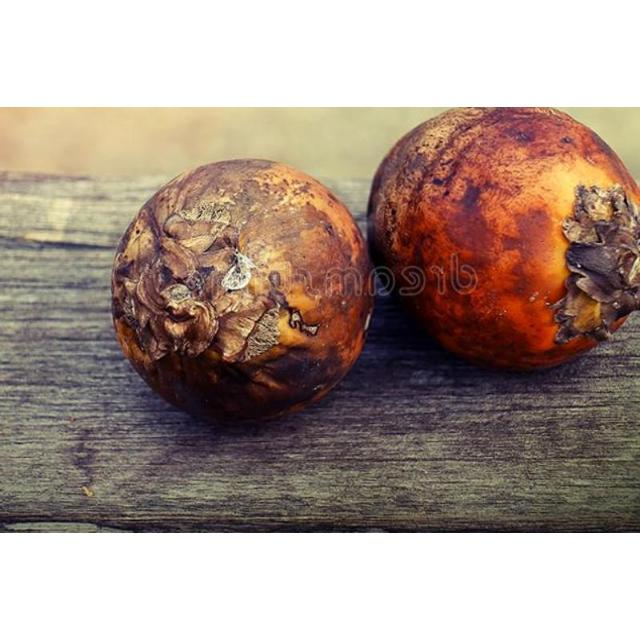damaged: (367, 107, 639, 374), (110, 159, 374, 426)
